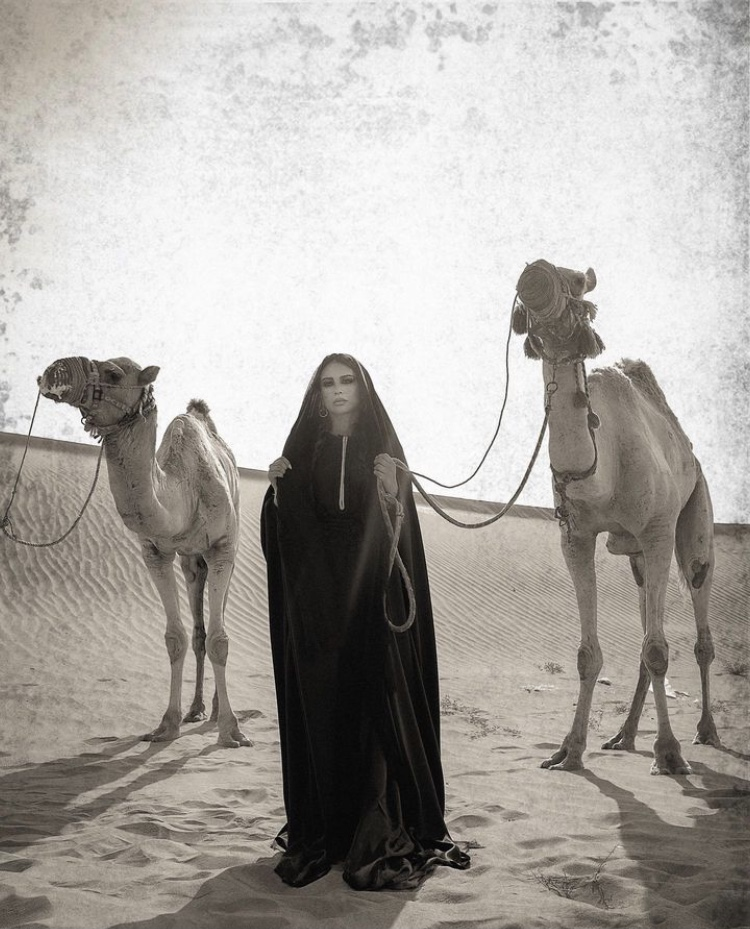Saudi_Founding_Day: (259, 352, 474, 895)
